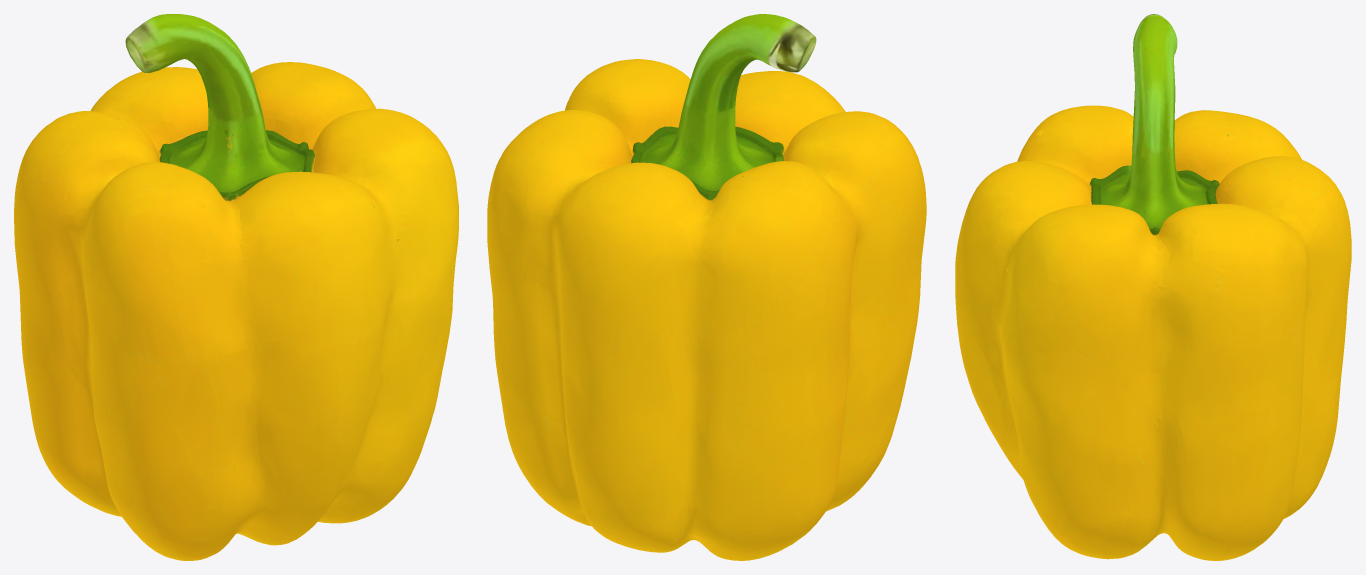
File: kitchen-bell-pepper-04.glb
3 renders of one model, left to right at view 1: azimuth 30°, elevation 25°; view 2: azimuth 150°, elevation 25°; view 3: azimuth 270°, elevation 25°, orthographic. The views are drawn at different scales.
Bounding box in the file's own units: 1.33 × 1.9 × 1.45.
Materials: 1 (1 with a texture image).
